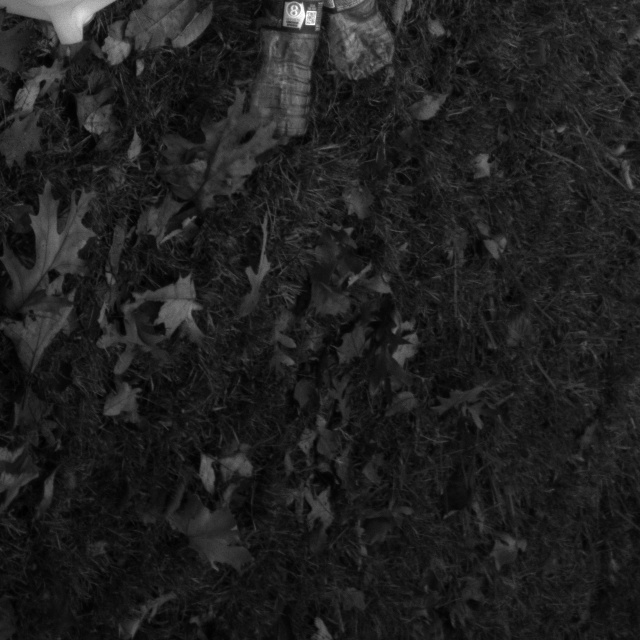bottle: (241, 0, 333, 141), (316, 0, 403, 79)
